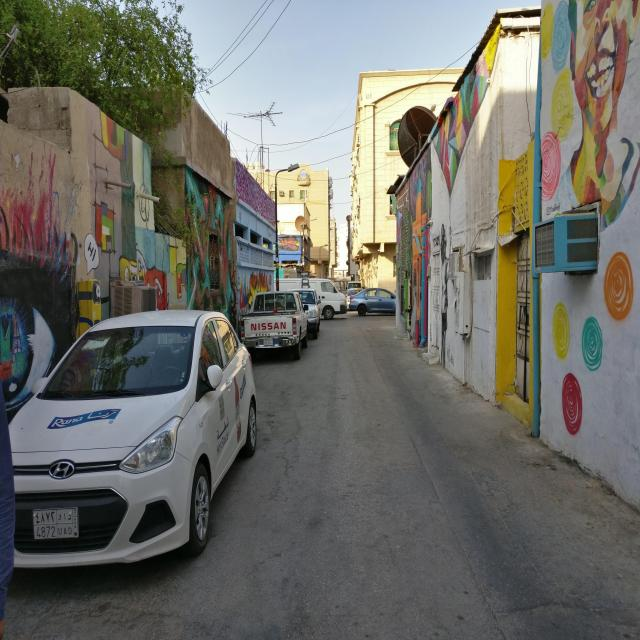license_plate: (32, 507, 79, 541), (263, 338, 275, 345)
